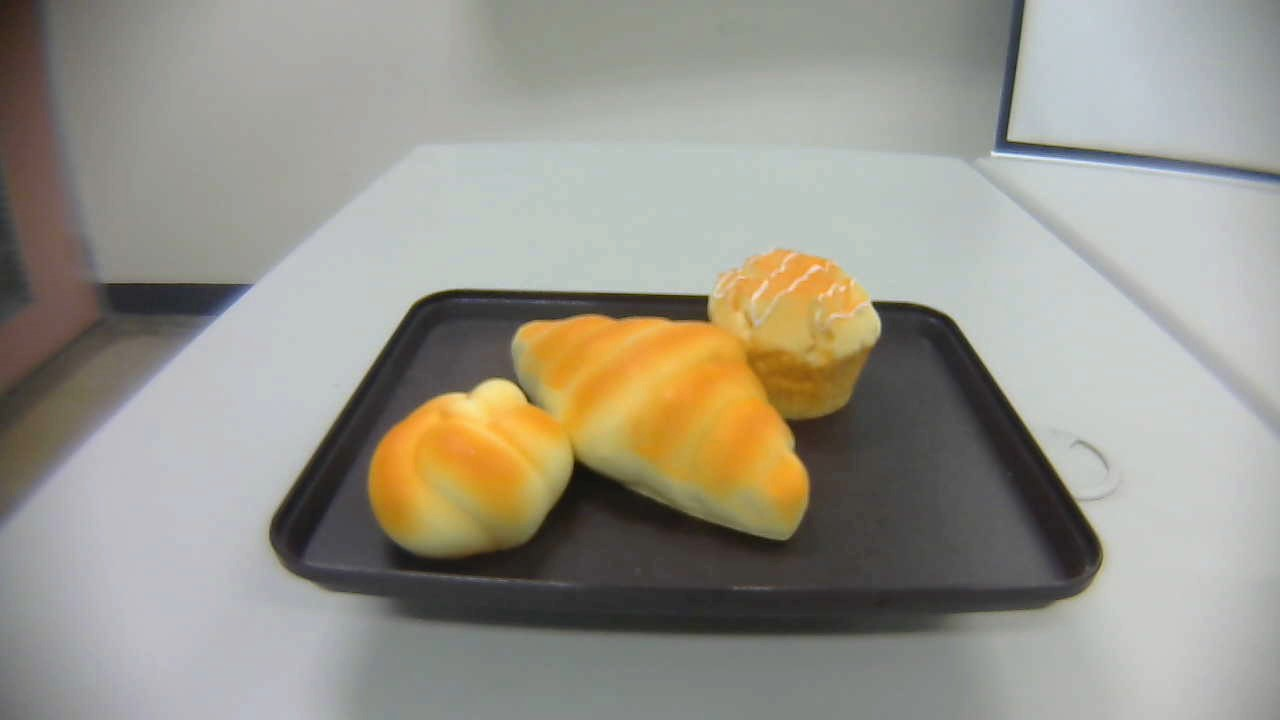croissant: (512, 313, 811, 545)
cupcake: (709, 248, 881, 422)
twist bread: (365, 380, 574, 561)
